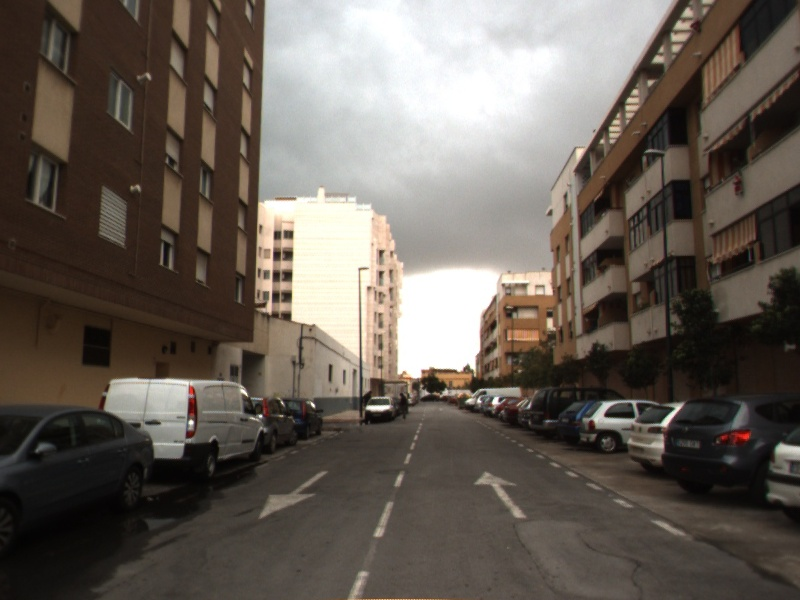STRAIGHT: (472, 468, 531, 520)
